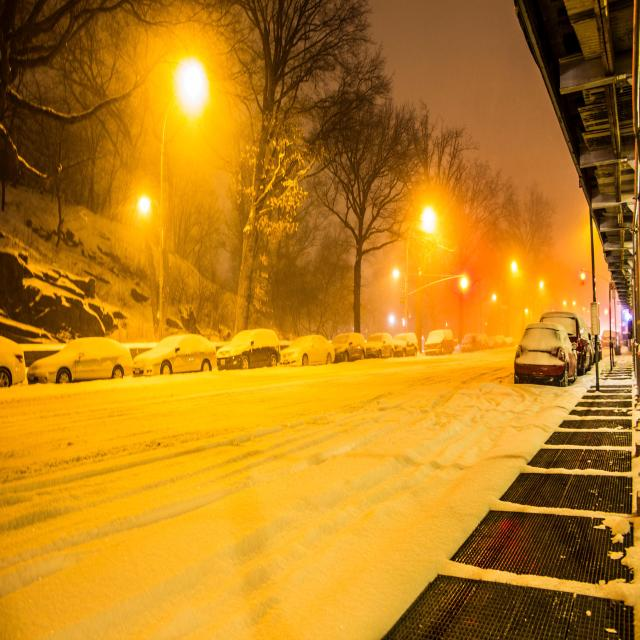other: (385, 195, 592, 336), (158, 43, 212, 131), (128, 182, 164, 226)
